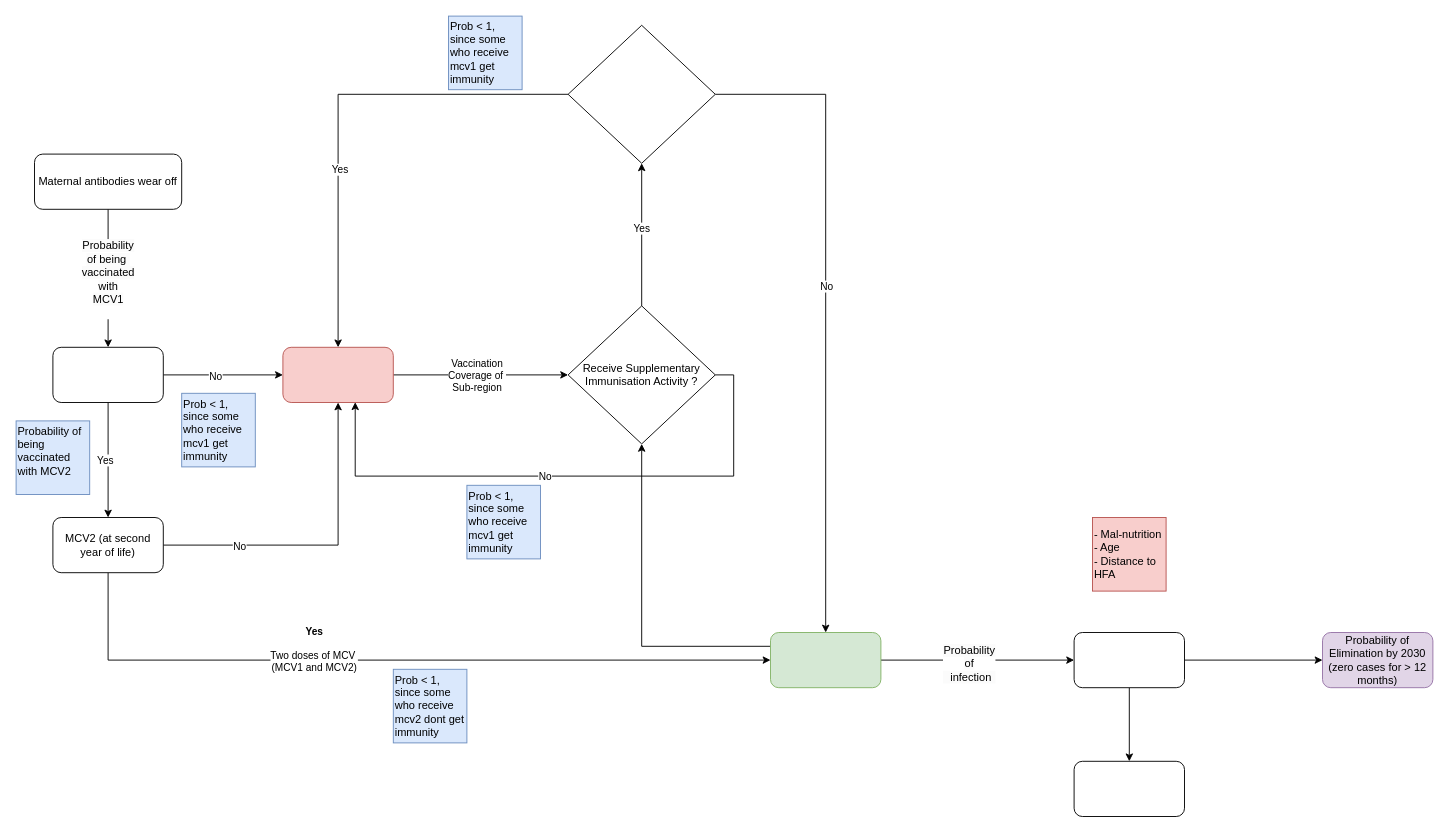
This 1449x833 diagram has some shape labels left out. The centre of each missing label's shape, as x and y in pixels:
"1st dose ?" goes at (641,93).
"MCV1 (at first year of life)" goes at (107,374).
"Pool of Immune" goes at (825,660).
"Pool of Susceptibles" goes at (337,374).
